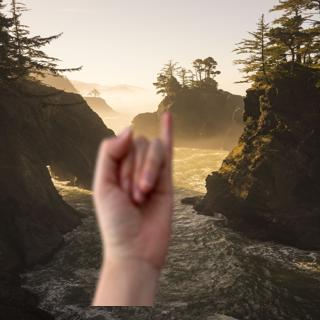Fine: (86, 106, 191, 274)
